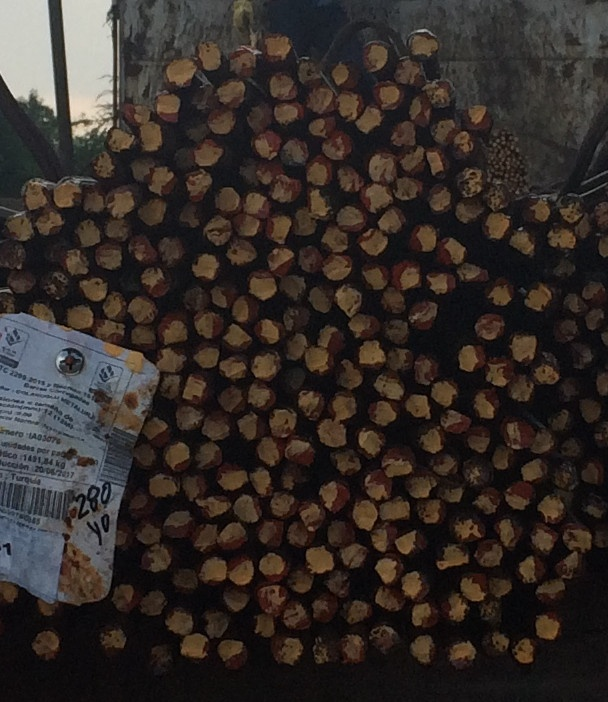dipstick: (402, 460, 436, 496), (429, 119, 462, 151), (136, 197, 170, 228), (93, 317, 128, 347), (461, 421, 493, 453), (471, 538, 505, 568), (264, 30, 295, 62), (408, 298, 441, 328), (537, 576, 570, 606), (460, 455, 491, 486), (138, 585, 169, 616), (142, 265, 172, 297), (525, 283, 555, 315), (470, 387, 500, 419), (287, 438, 319, 468), (513, 553, 545, 583), (370, 81, 403, 110), (425, 267, 458, 296), (320, 222, 353, 251), (21, 181, 52, 211), (424, 184, 454, 215), (359, 43, 391, 72), (552, 551, 584, 580), (216, 638, 248, 667), (391, 175, 423, 204), (321, 251, 354, 279), (435, 542, 468, 570), (164, 60, 198, 87), (330, 448, 364, 475), (194, 41, 224, 71), (391, 260, 422, 289), (307, 283, 336, 314), (359, 183, 391, 211), (210, 189, 242, 217), (366, 399, 398, 427), (357, 426, 385, 458), (217, 461, 249, 489), (255, 439, 287, 467), (248, 269, 275, 302), (316, 421, 349, 448), (380, 451, 413, 478), (406, 32, 440, 58), (397, 530, 431, 556), (427, 79, 456, 109), (483, 211, 513, 240), (355, 230, 385, 259), (475, 313, 504, 343), (163, 442, 193, 471), (410, 634, 439, 664), (528, 523, 558, 552), (202, 217, 233, 245), (457, 341, 485, 372), (348, 310, 379, 338), (165, 510, 197, 537), (304, 545, 336, 572), (54, 180, 83, 209), (104, 188, 133, 217), (558, 194, 587, 223), (300, 500, 329, 529), (577, 396, 606, 425), (137, 123, 167, 151), (351, 499, 379, 529), (257, 585, 287, 613), (32, 628, 60, 658), (95, 240, 123, 270), (183, 172, 213, 200), (206, 106, 236, 134), (400, 569, 427, 600), (371, 626, 402, 653), (506, 481, 537, 508), (96, 628, 128, 654), (176, 404, 208, 430), (146, 167, 174, 196), (150, 472, 178, 501), (198, 558, 227, 586), (242, 192, 272, 219), (485, 278, 515, 305), (268, 489, 295, 519), (455, 516, 485, 543), (286, 567, 316, 594), (272, 174, 302, 201), (127, 296, 158, 322), (487, 362, 519, 387), (190, 253, 218, 281), (321, 483, 349, 511), (376, 557, 404, 585), (273, 101, 302, 128), (195, 309, 222, 338), (433, 377, 460, 406), (311, 592, 338, 621), (474, 489, 503, 516), (257, 520, 286, 547), (298, 390, 324, 420), (136, 518, 166, 544), (387, 347, 413, 377), (279, 140, 309, 166), (445, 641, 476, 666), (155, 93, 182, 121), (227, 45, 255, 72), (251, 130, 279, 157), (581, 279, 608, 307), (219, 83, 248, 109), (79, 275, 108, 301), (155, 347, 184, 373), (461, 574, 490, 600), (235, 496, 264, 522), (335, 638, 366, 662), (162, 317, 189, 344), (257, 319, 285, 345), (510, 636, 538, 662), (272, 636, 300, 662), (172, 568, 200, 594), (202, 417, 235, 439), (390, 122, 419, 147), (63, 307, 92, 332), (359, 341, 384, 370), (216, 384, 241, 413), (534, 615, 563, 640), (142, 547, 171, 572), (4, 215, 33, 240), (233, 214, 263, 238), (418, 500, 449, 523), (268, 72, 295, 98), (367, 157, 394, 183), (306, 158, 332, 185), (466, 104, 493, 130), (259, 554, 286, 580), (140, 419, 167, 445), (114, 587, 139, 615), (10, 267, 39, 291), (104, 128, 134, 151), (564, 528, 594, 551), (344, 600, 374, 623), (266, 217, 289, 247), (510, 336, 536, 362), (408, 394, 434, 420), (504, 423, 530, 449), (196, 141, 223, 166), (270, 409, 295, 436), (524, 458, 551, 483), (219, 523, 246, 548), (268, 249, 292, 277), (553, 464, 581, 488), (383, 323, 411, 347), (35, 213, 64, 236), (183, 377, 212, 400), (546, 228, 577, 249), (334, 94, 360, 119), (225, 326, 251, 351), (538, 497, 564, 522), (419, 429, 446, 453), (158, 376, 185, 400), (337, 286, 361, 313), (482, 632, 510, 655), (458, 172, 486, 195), (222, 590, 251, 612), (441, 237, 466, 262), (551, 317, 576, 342), (74, 217, 98, 243), (253, 352, 276, 379), (221, 357, 249, 379), (307, 347, 331, 372), (194, 345, 219, 369), (337, 206, 361, 230), (325, 131, 350, 154), (183, 632, 206, 657), (229, 558, 251, 584), (167, 611, 191, 634), (414, 358, 438, 381), (412, 226, 434, 251), (412, 603, 438, 624), (285, 334, 306, 360), (65, 251, 87, 274), (246, 385, 270, 406), (532, 362, 555, 383), (582, 309, 605, 330), (566, 293, 587, 313)
